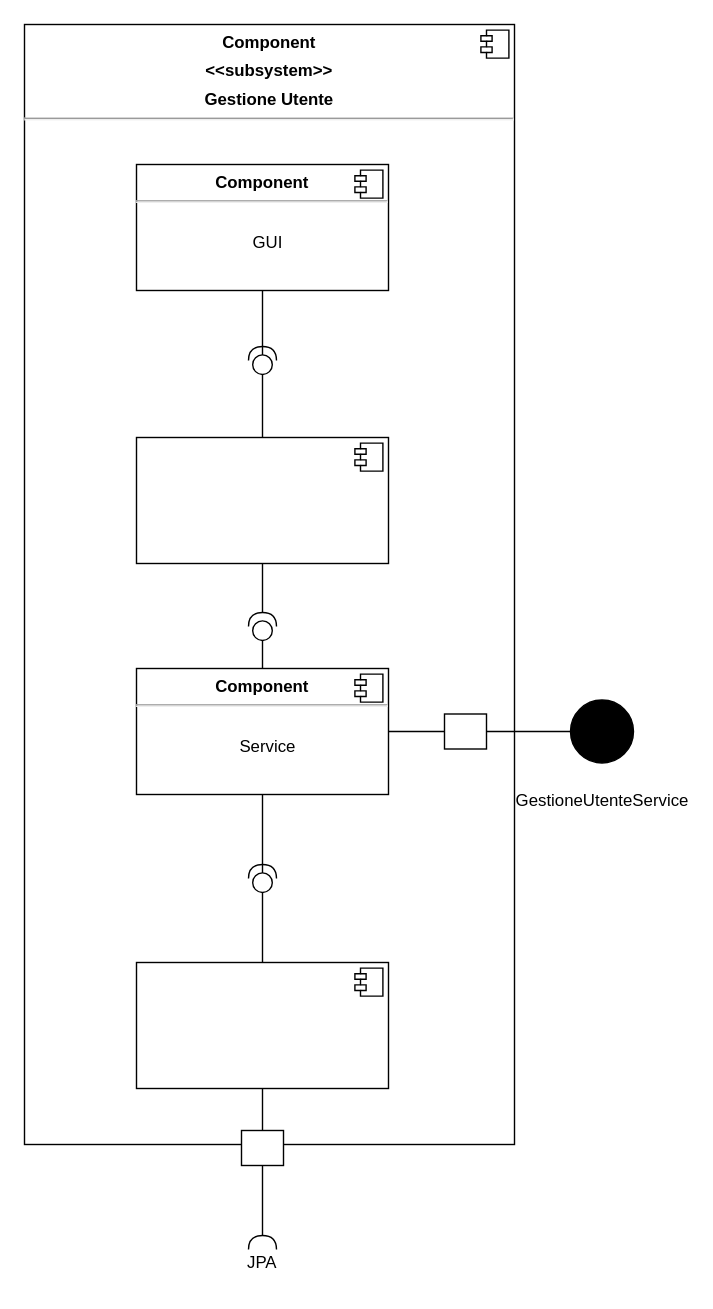
This 713x1309 diagram has some shape labels left out. Here are the shapes that lost their labels. From the top down, the centre of each, then its label:
At point 261,500: "Component Control".
At point 261,1024: "Component DAO".
